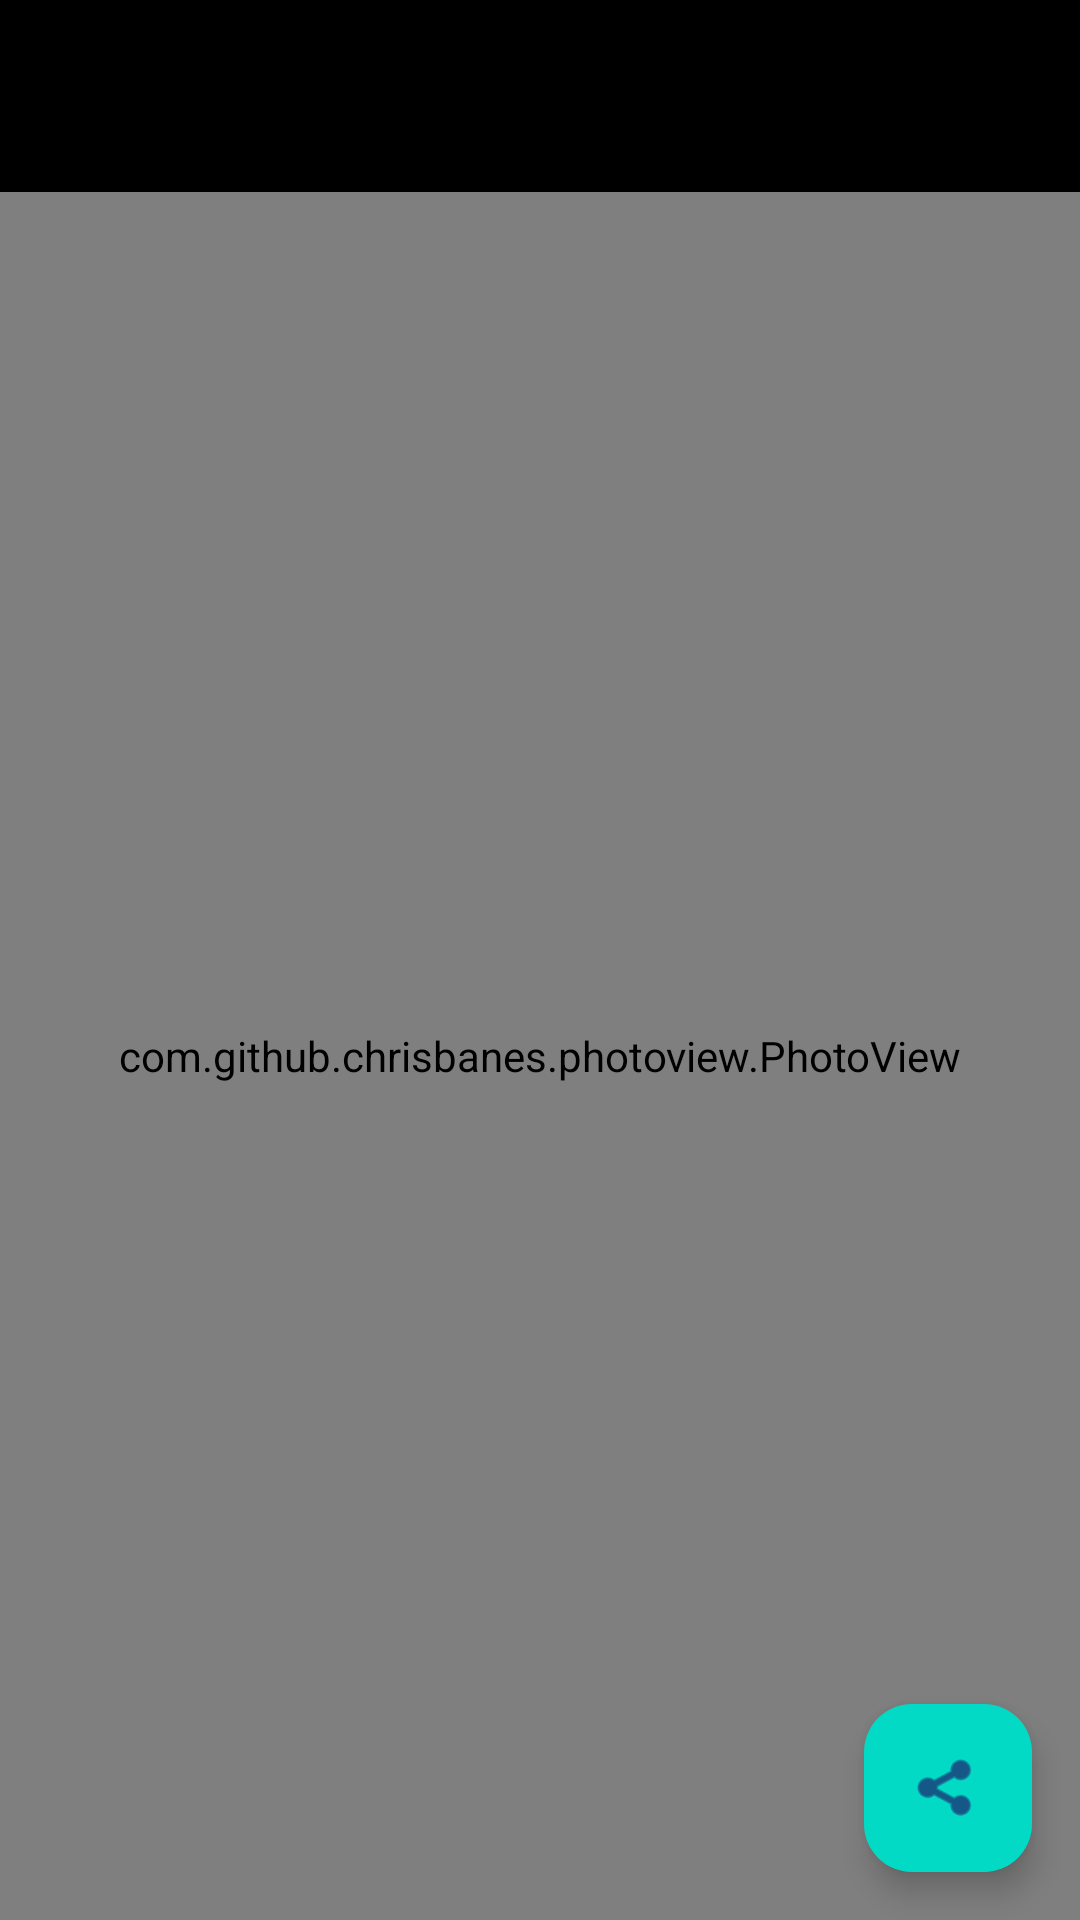

Icons on this 1080px×1920px Android screen, each with its box as bbox=[x1, y1, x2, y2]:
Partager l'image: bbox=[864, 1704, 1032, 1872]
